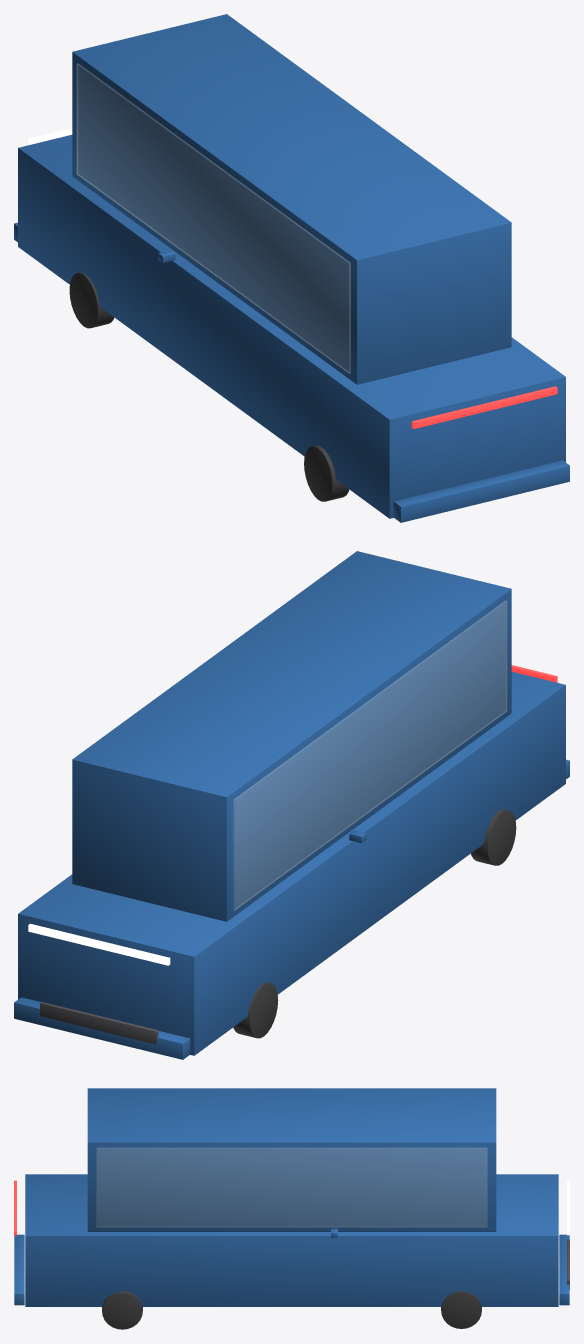
Rendered from vehicle.glb.
3 renders of one model, top to bottom at view 1: azimuth 30°, elevation 25°; view 2: azimuth 150°, elevation 25°; view 3: azimuth 270°, elevation 25°, orthographic. The views are drawn at different scales.
Visible parts, largest first — view 1: BODY_Roof, BODY_Main, GLASS_Greenhouse, BODY_Bumpers_Rear, WHEEL_RR_Tire, WHEEL_FR_Tire, LIGHT_Taillights; view 2: BODY_Roof, BODY_Main, GLASS_Greenhouse, BODY_Bumpers_Front, BODY_Grille, WHEEL_RR_Tire, WHEEL_FR_Tire, LIGHT_Headlights; view 3: BODY_Roof, BODY_Main, GLASS_Greenhouse, WHEEL_RL_Tire, WHEEL_FL_Tire, BODY_Bumpers_Rear, BODY_Bumpers_Front.
Boxes of the visible parts, x1=… form: BODY_Roof: x1=72, y1=14, x2=511, y2=384; BODY_Main: x1=18, y1=134, x2=565, y2=518; GLASS_Greenhouse: x1=76, y1=63, x2=350, y2=373; BODY_Bumpers_Rear: x1=393, y1=460, x2=569, y2=522; WHEEL_RR_Tire: x1=304, y1=445, x2=349, y2=501; WHEEL_FR_Tire: x1=69, y1=272, x2=114, y2=328; LIGHT_Taillights: x1=411, y1=386, x2=557, y2=428; BODY_Roof: x1=72, y1=551, x2=511, y2=921; BODY_Main: x1=18, y1=671, x2=565, y2=1055; GLASS_Greenhouse: x1=233, y1=600, x2=507, y2=910; BODY_Bumpers_Front: x1=14, y1=997, x2=190, y2=1059; BODY_Grille: x1=40, y1=1002, x2=158, y2=1044; WHEEL_RR_Tire: x1=471, y1=809, x2=516, y2=865; WHEEL_FR_Tire: x1=233, y1=982, x2=278, y2=1038; LIGHT_Headlights: x1=28, y1=923, x2=170, y2=965; BODY_Roof: x1=87, y1=1088, x2=496, y2=1231; BODY_Main: x1=25, y1=1174, x2=558, y2=1306; GLASS_Greenhouse: x1=96, y1=1148, x2=487, y2=1227; WHEEL_RL_Tire: x1=102, y1=1291, x2=142, y2=1329; WHEEL_FL_Tire: x1=441, y1=1291, x2=481, y2=1328; BODY_Bumpers_Rear: x1=14, y1=1234, x2=24, y2=1305; BODY_Bumpers_Front: x1=559, y1=1234, x2=569, y2=1305.
Bounding box in the file's own units: 2.89 × 3.44 × 9.51.
